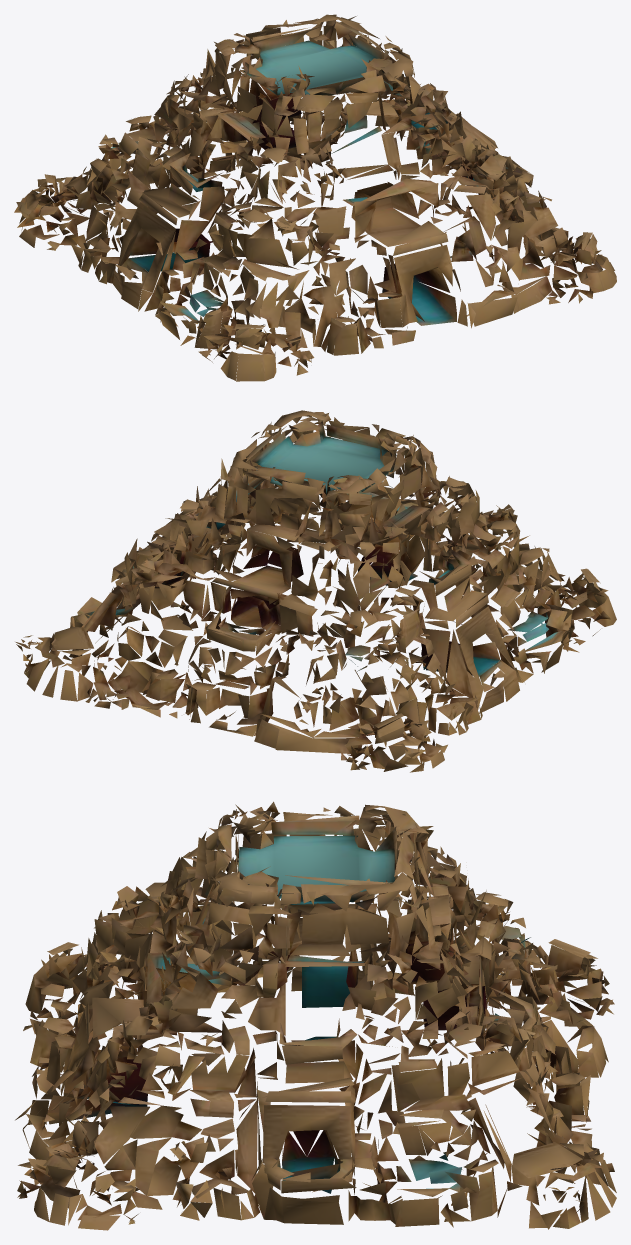
Rendered from cav_rimstone_pool_terrace_LOD2.glb.
3 renders of one model, top to bottom at view 1: azimuth 30°, elevation 25°; view 2: azimuth 150°, elevation 25°; view 3: azimuth 270°, elevation 25°, orthographic. The views are drawn at different scales.
Visible parts, largest first — view 1: tripo_node_12a77af8-fa9d-4081-bc1f-98421c458a2b; view 2: tripo_node_12a77af8-fa9d-4081-bc1f-98421c458a2b; view 3: tripo_node_12a77af8-fa9d-4081-bc1f-98421c458a2b.
Part boxes in pixels (box(x1,y1,x2,y2)): tripo_node_12a77af8-fa9d-4081-bc1f-98421c458a2b: box(14, 14, 616, 381); tripo_node_12a77af8-fa9d-4081-bc1f-98421c458a2b: box(15, 410, 616, 772); tripo_node_12a77af8-fa9d-4081-bc1f-98421c458a2b: box(15, 801, 616, 1230).
Bounding box in the file's own units: 1 × 0.5064 × 0.9876.
1 material, 1 textured.
